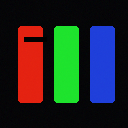3 line_h: (24, 37, 46, 41)
